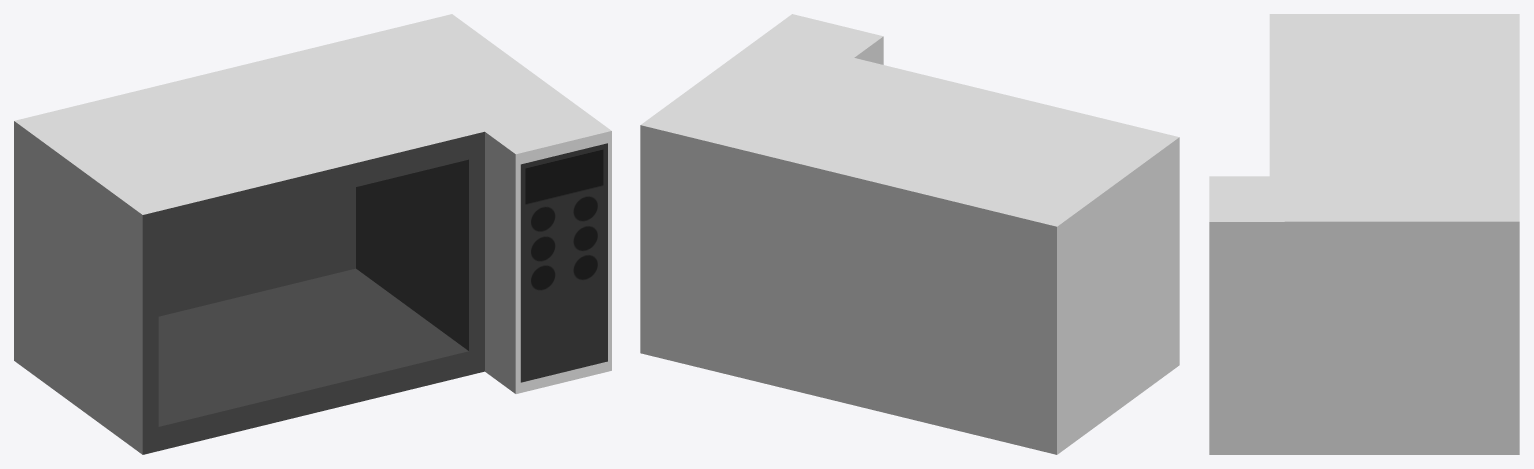
File: Itr_Obj_Microwave_Body_01.FBX
3 renders of one model, left to right at view 1: azimuth 30°, elevation 25°; view 2: azimuth 150°, elevation 25°; view 3: azimuth 270°, elevation 25°, orthographic. The views are drawn at different scales.
Visible parts, largest first — view 1: Itr_Obj_Microwave_Body_01; view 2: Itr_Obj_Microwave_Body_01; view 3: Itr_Obj_Microwave_Body_01.
Boxes of the visible parts, bbox=[...] form: Itr_Obj_Microwave_Body_01: bbox=[14, 14, 611, 454]; Itr_Obj_Microwave_Body_01: bbox=[640, 14, 1179, 454]; Itr_Obj_Microwave_Body_01: bbox=[1209, 14, 1519, 454].
Bounding box in the file's own units: 27.25 × 14.26 × 17.26.
